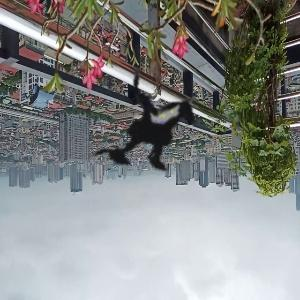drone: (47, 31, 264, 248)
